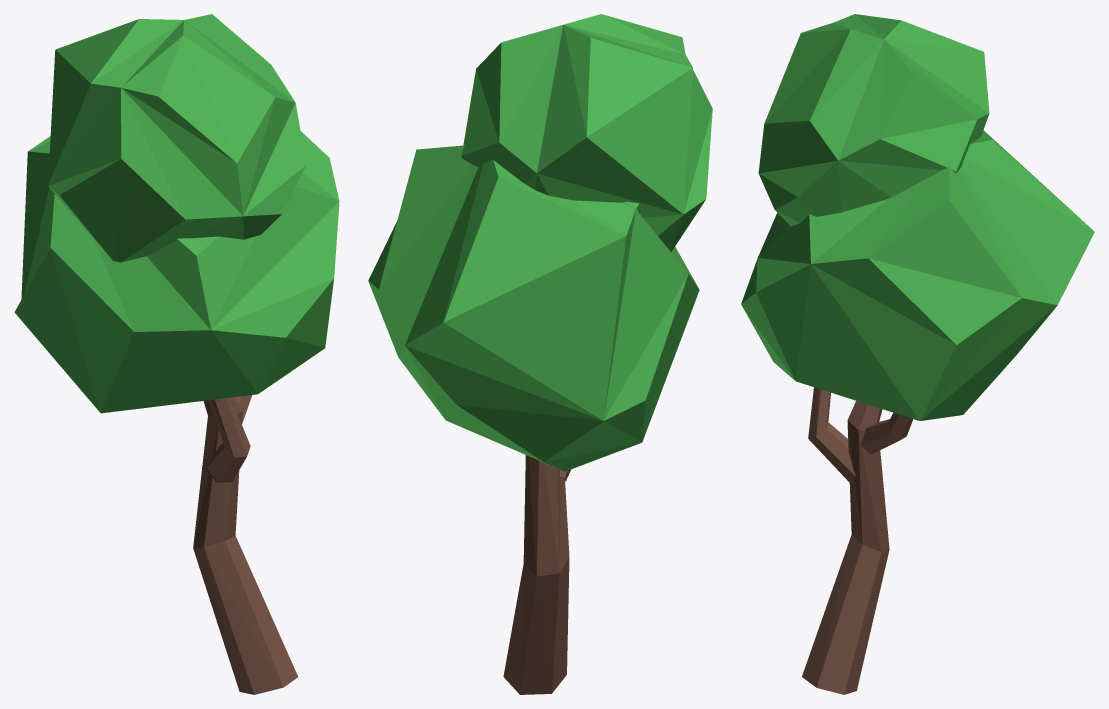
Rendered from Woods Tree C.glb.
The picture shows the model from 3 angles, left to right: view 1: azimuth 30°, elevation 25°; view 2: azimuth 150°, elevation 25°; view 3: azimuth 270°, elevation 25°; orthographic projection. The views are drawn at different scales.
Parts seen in each view (by area): view 1: mesh2035836735, mesh2035836735_1; view 2: mesh2035836735, mesh2035836735_1; view 3: mesh2035836735, mesh2035836735_1.
Part boxes in pixels (left/top/right/bottom): mesh2035836735: left=14, top=14, right=339, bottom=413; mesh2035836735_1: left=193, top=395, right=297, bottom=694; mesh2035836735: left=368, top=14, right=712, bottom=471; mesh2035836735_1: left=503, top=455, right=570, bottom=694; mesh2035836735: left=741, top=14, right=1094, bottom=420; mesh2035836735_1: left=802, top=387, right=913, bottom=694.
Bounding box in the file's own units: 1.99 × 4.56 × 2.32.
